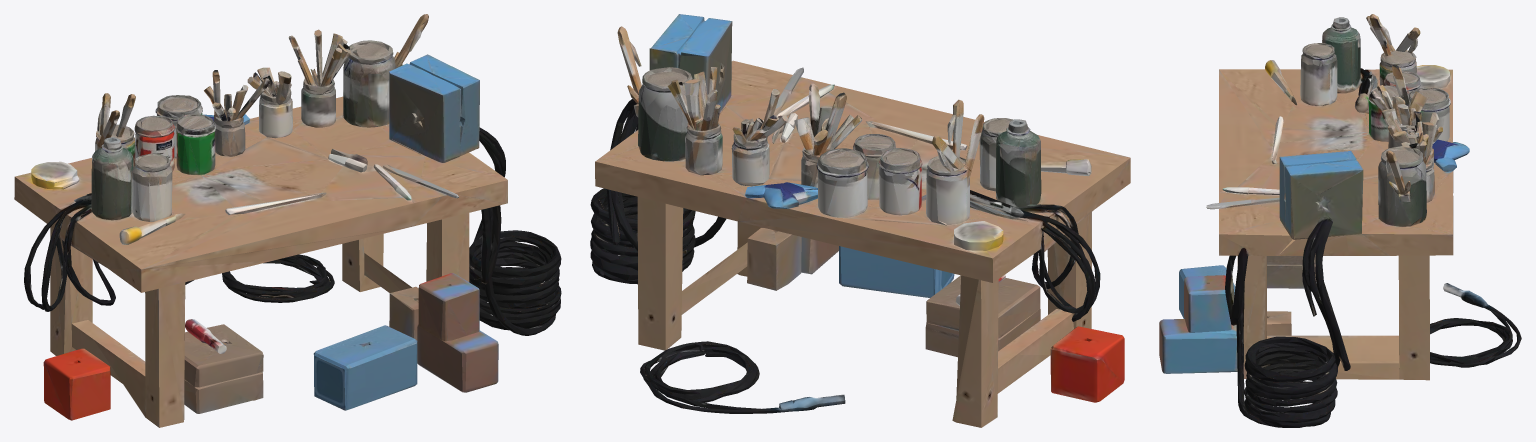
File: workbench.glb
3 renders of one model, left to right at view 1: azimuth 30°, elevation 25°; view 2: azimuth 150°, elevation 25°; view 3: azimuth 270°, elevation 25°, orthographic. The views are drawn at different scales.
Bounding box in the file's own units: 1.9 × 0.9914 × 1.31.
1 material, 1 textured.
